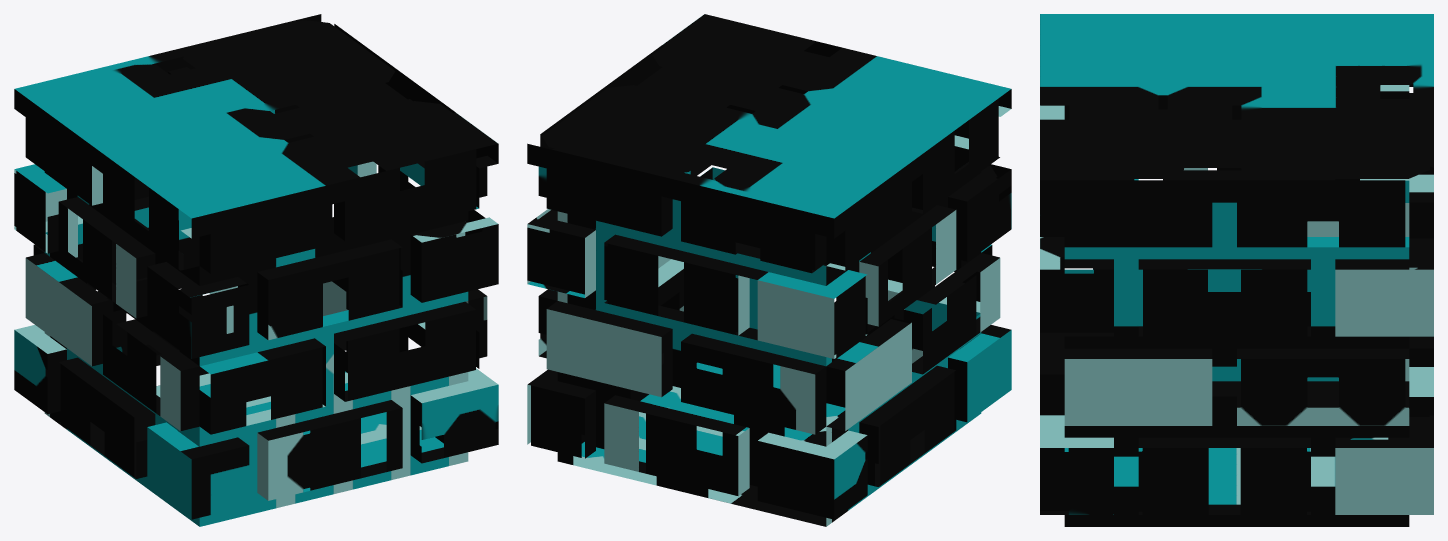
Rendered from brick.obj.
3 views of the same model, side by side, from view 1: azimuth 30°, elevation 25°; view 2: azimuth 150°, elevation 25°; view 3: azimuth 270°, elevation 25° (orthographic). The views are drawn at different scales.
Visible parts, largest first — view 1: Cube_Cube.001; view 2: Cube_Cube.001; view 3: Cube_Cube.001.
Boxes of the visible parts, x1=… form: Cube_Cube.001: x1=14, y1=14, x2=498, y2=526; Cube_Cube.001: x1=527, y1=14, x2=1011, y2=526; Cube_Cube.001: x1=1040, y1=14, x2=1433, y2=526.
Size of the model in its own units: 2.25 by 2.25 by 2.25.
